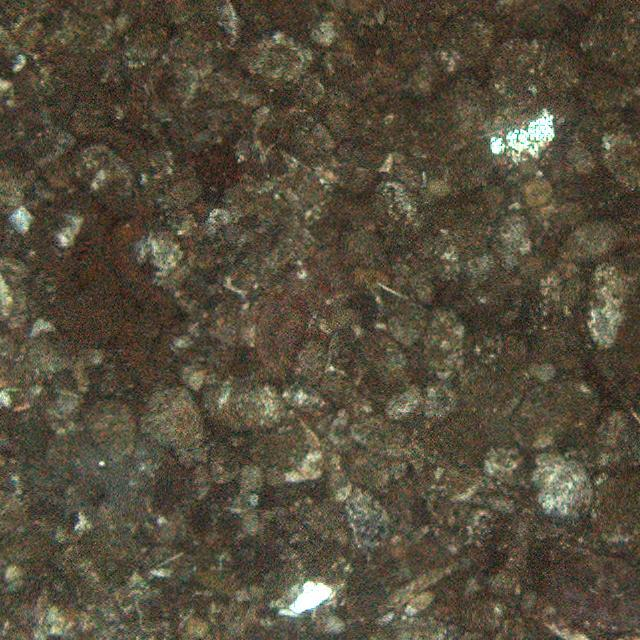crab: (239, 272, 328, 382)
